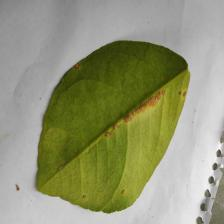canker: (86, 84, 176, 164)
